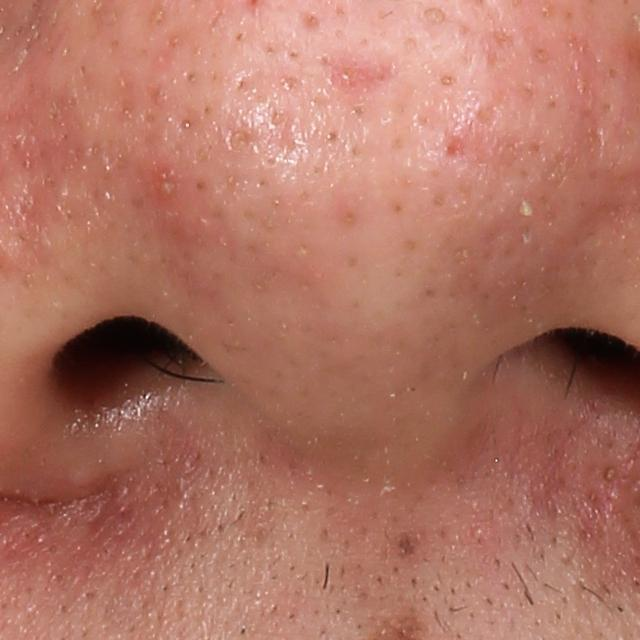comedo: (420, 1, 448, 29), (437, 68, 456, 88)
nevus: (392, 535, 417, 559)
